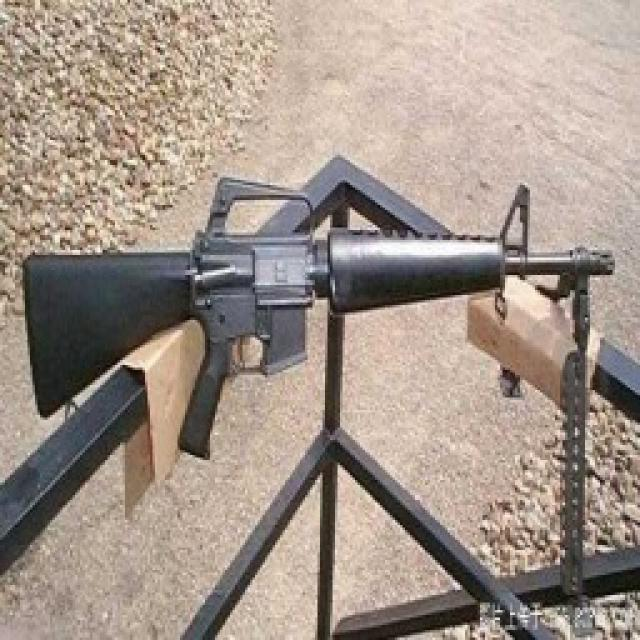long weapon: (1, 146, 611, 446)
